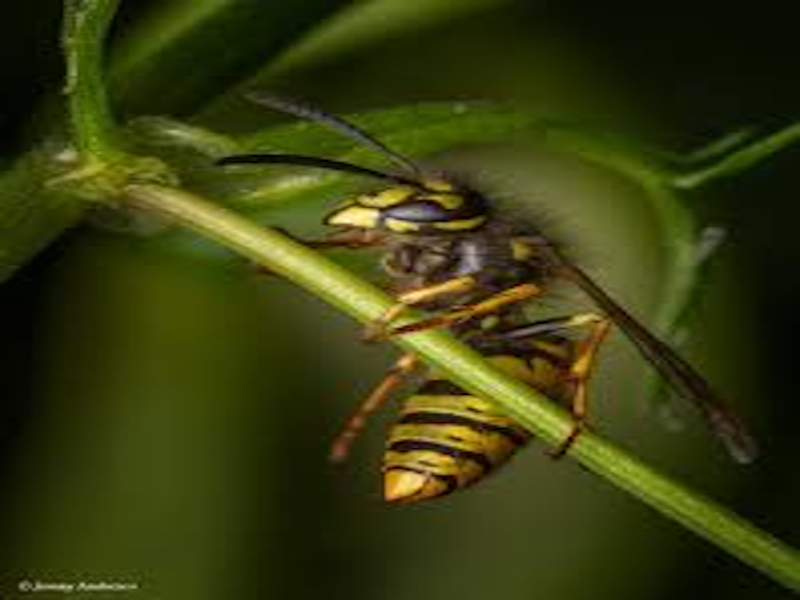chax: (207, 73, 773, 529)
